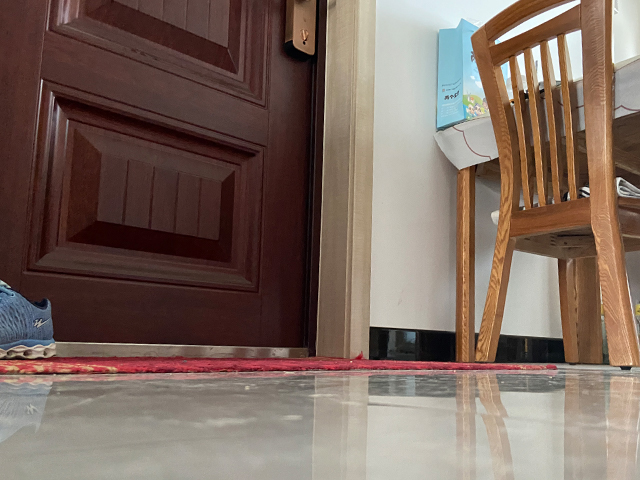carpet: (1, 354, 556, 374)
stool: (470, 1, 640, 370)
